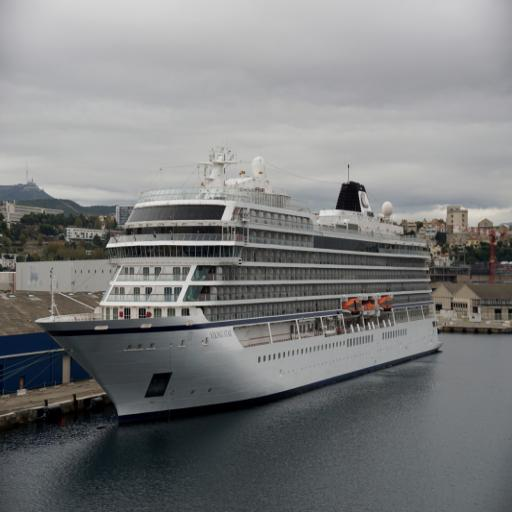cruises: (34, 149, 445, 429)
